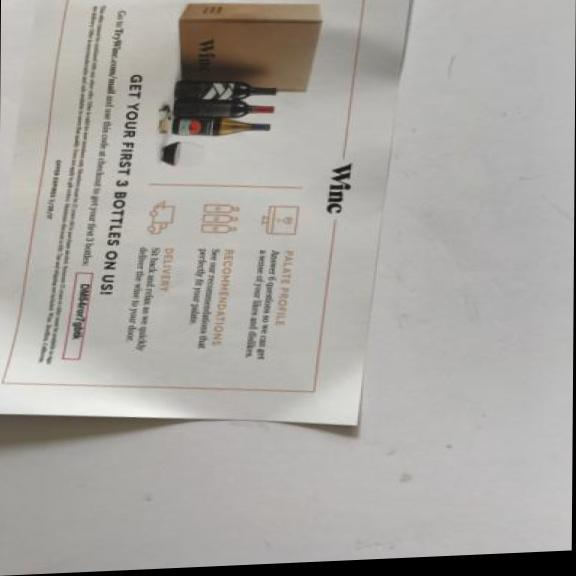Kertas: (0, 0, 426, 446)
